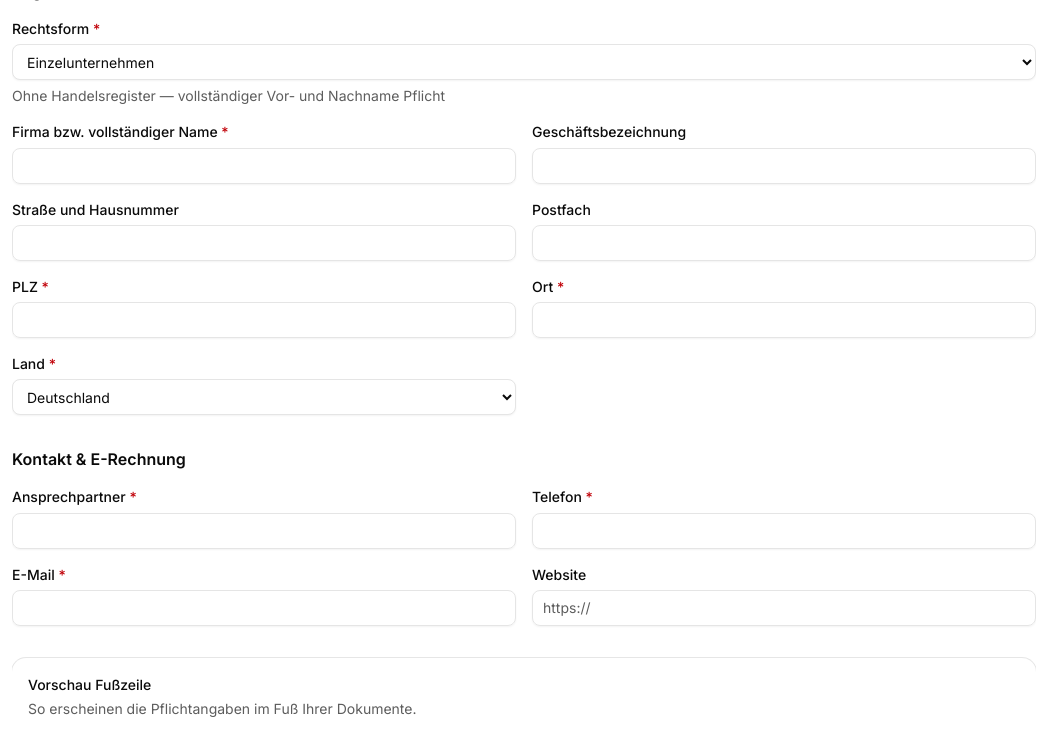
Scenario: company form (F01 §6.3) › SET-011 choosing GmbH shows Registergericht, HRB and Geschäftsführer as mandatory and the footer delta
The image size is (1048, 735).
Expected: the field labelled "Registergericht" is not shown
Select "GmbH" in the dropdown labelled "Rechtsform *" at {"x": 524, "y": 62}, box [12, 44, 1036, 80]
(page scrolled)
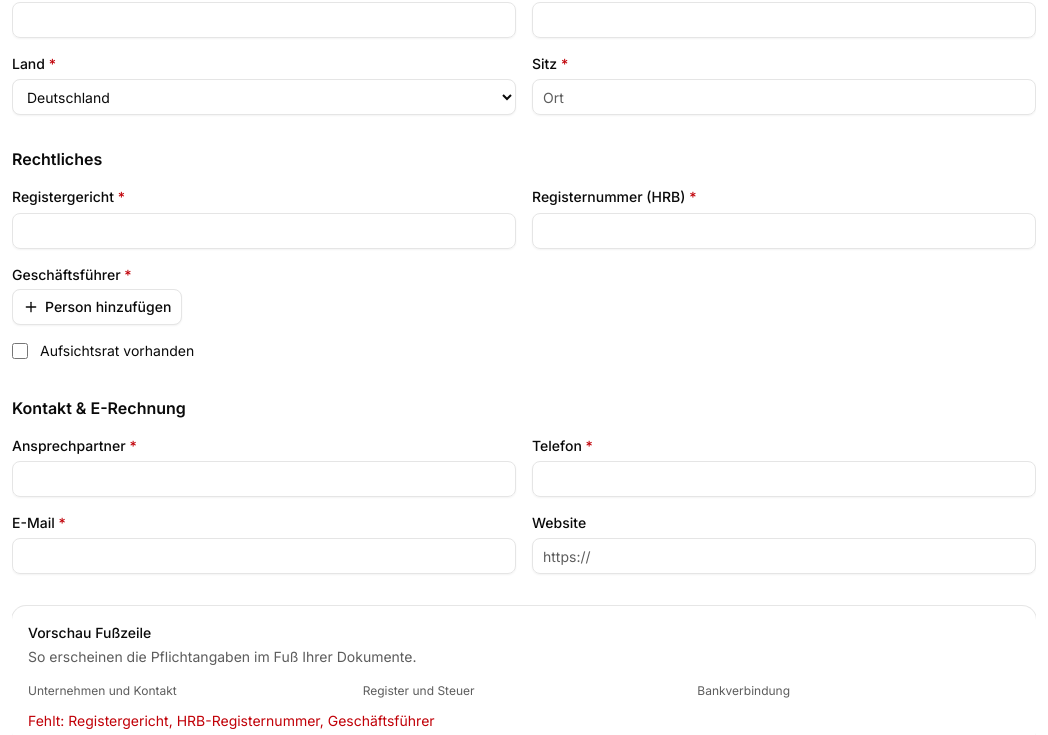
Expected: the element "Geschäftsführer * Person hinzufügen" is shown, [12, 266, 182, 324]
Expected: the text "Fehlt: Registergericht, HRB-Registernummer, Geschäftsführer" is shown, [28, 712, 435, 729]
